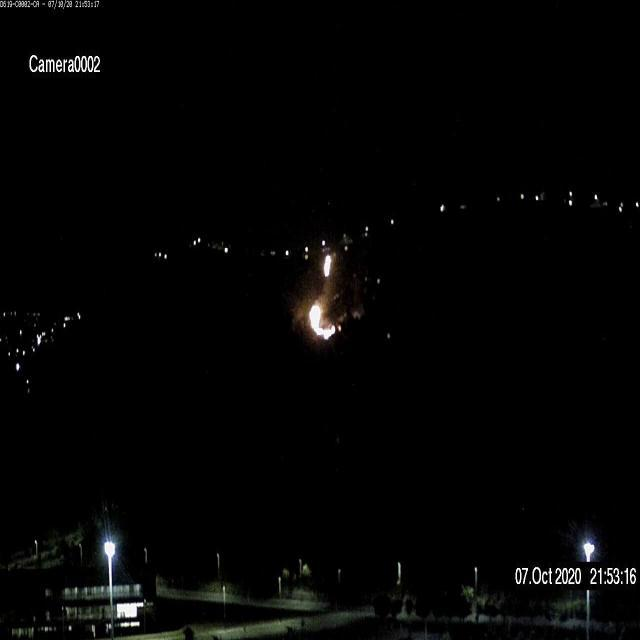Fire: (306, 247, 344, 337), (308, 296, 340, 340)
